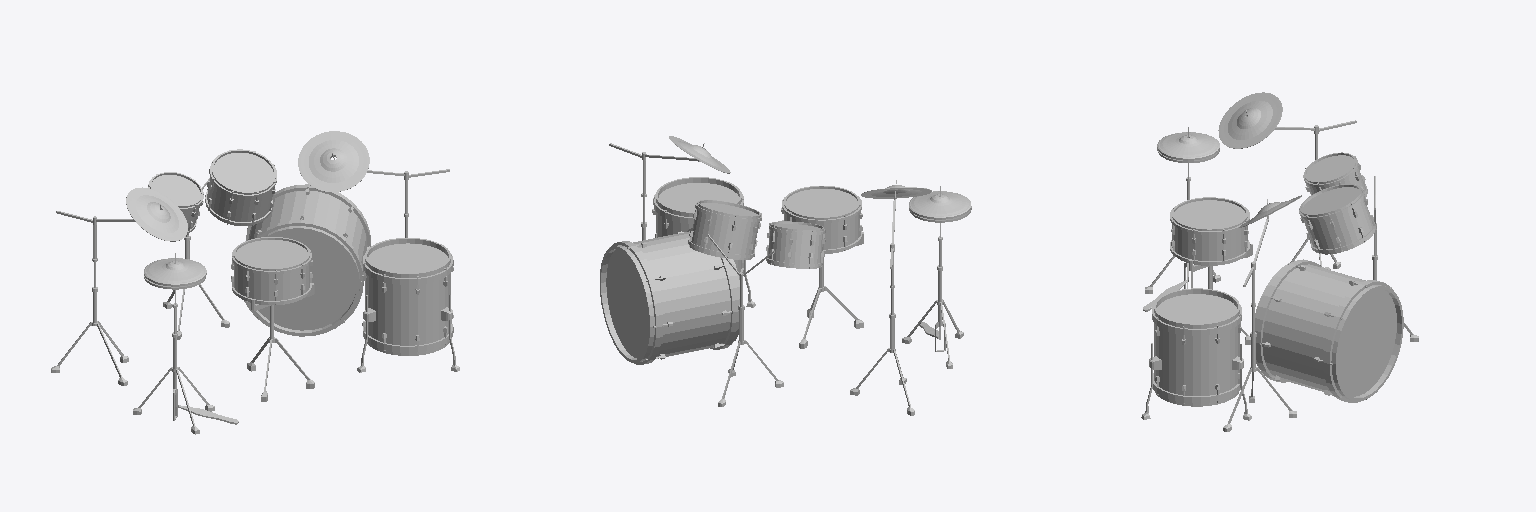
The model's file is Drum.obj.
The picture shows the model from 3 angles: view 1: azimuth 30°, elevation 25°; view 2: azimuth 150°, elevation 25°; view 3: azimuth 270°, elevation 25°; orthographic projection.
Visible parts, largest first — view 1: Bassdrum_Unified.002, Floortom_Unified.002, Snaredrum_Unified.003, Midtom_Unified.002, Crash.003, Crash.004, Drum_HighTom.004, HihatOben.004, Cylinder.006, Cylinder.005, SnareStand, Cylinder.009; view 2: Bassdrum_Unified.002, Snaredrum_Unified.003, Midtom_Unified.002, Floortom_Unified.002, Drum_HighTom.004, HihatOben.004, Cylinder.006, Cylinder.005, Cylinder.009, SnareStand, Crash.004, Crash.003 (+1 smaller); view 3: Bassdrum_Unified.002, Floortom_Unified.002, Snaredrum_Unified.003, Midtom_Unified.002, Crash.004, Drum_HighTom.004, HihatOben.004, Cylinder.007.
Boxes of the visible parts, x1,y1,x2,y2 form: Bassdrum_Unified.002: [244, 184, 370, 336]; Floortom_Unified.002: [357, 238, 459, 372]; Snaredrum_Unified.003: [231, 237, 312, 304]; Midtom_Unified.002: [205, 149, 276, 225]; Crash.003: [298, 131, 369, 191]; Crash.004: [126, 187, 187, 241]; Drum_HighTom.004: [148, 172, 203, 234]; HihatOben.004: [144, 258, 206, 286]; Cylinder.006: [51, 205, 160, 385]; Cylinder.005: [133, 253, 214, 434]; SnareStand: [247, 283, 314, 401]; Cylinder.009: [163, 178, 229, 339]; Bassdrum_Unified.002: [600, 228, 739, 364]; Snaredrum_Unified.003: [781, 186, 862, 253]; Midtom_Unified.002: [688, 200, 761, 259]; Floortom_Unified.002: [652, 177, 755, 307]; Drum_HighTom.004: [766, 221, 825, 268]; HihatOben.004: [909, 191, 970, 219]; Cylinder.006: [850, 180, 914, 415]; Cylinder.005: [902, 186, 963, 368]; Cylinder.009: [708, 234, 783, 406]; SnareStand: [799, 232, 863, 348]; Crash.004: [861, 185, 931, 198]; Crash.003: [669, 136, 730, 173]; Bassdrum_Unified.002: [1255, 259, 1403, 402]; Floortom_Unified.002: [1141, 288, 1251, 420]; Snaredrum_Unified.003: [1170, 197, 1249, 265]; Midtom_Unified.002: [1299, 184, 1376, 254]; Crash.004: [1218, 92, 1282, 148]; Drum_HighTom.004: [1303, 152, 1367, 197]; HihatOben.004: [1157, 132, 1219, 160]; Cylinder.007: [1223, 199, 1296, 431].
Size of the model in its own units: 1.82 by 0.9712 by 1.25.